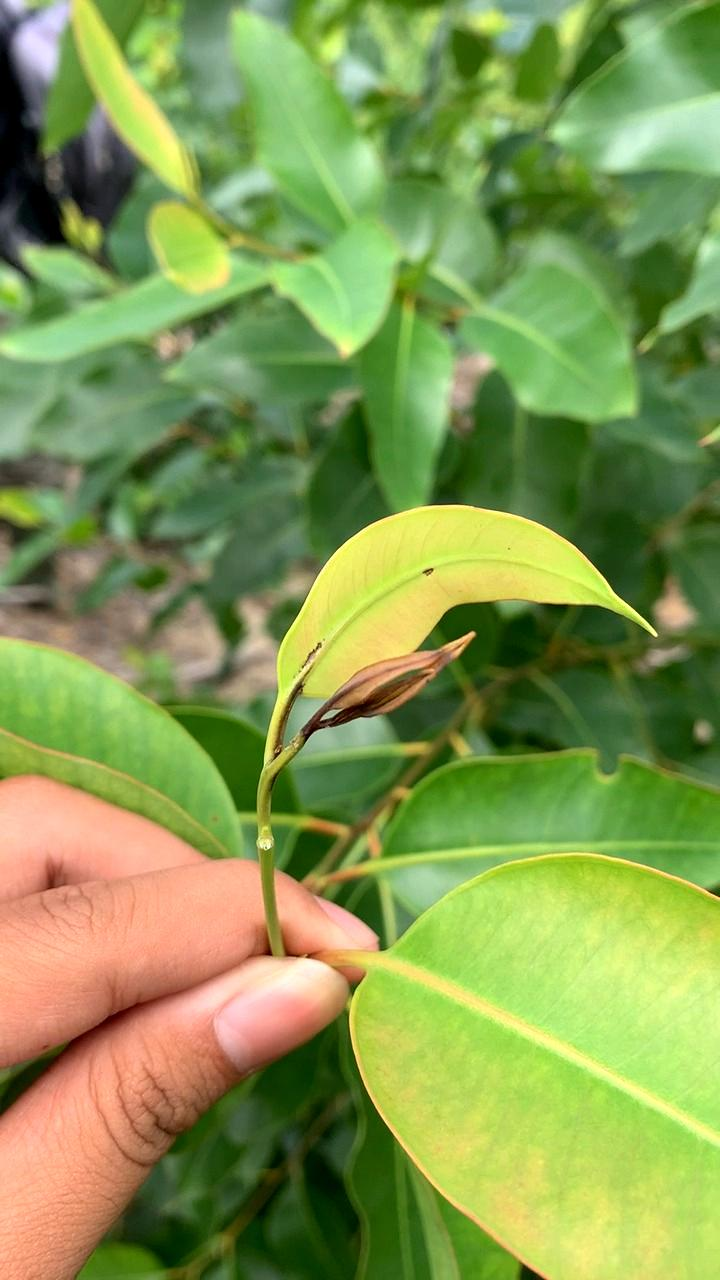Helopeltis-Withered Sprout: (267, 621, 503, 761)
